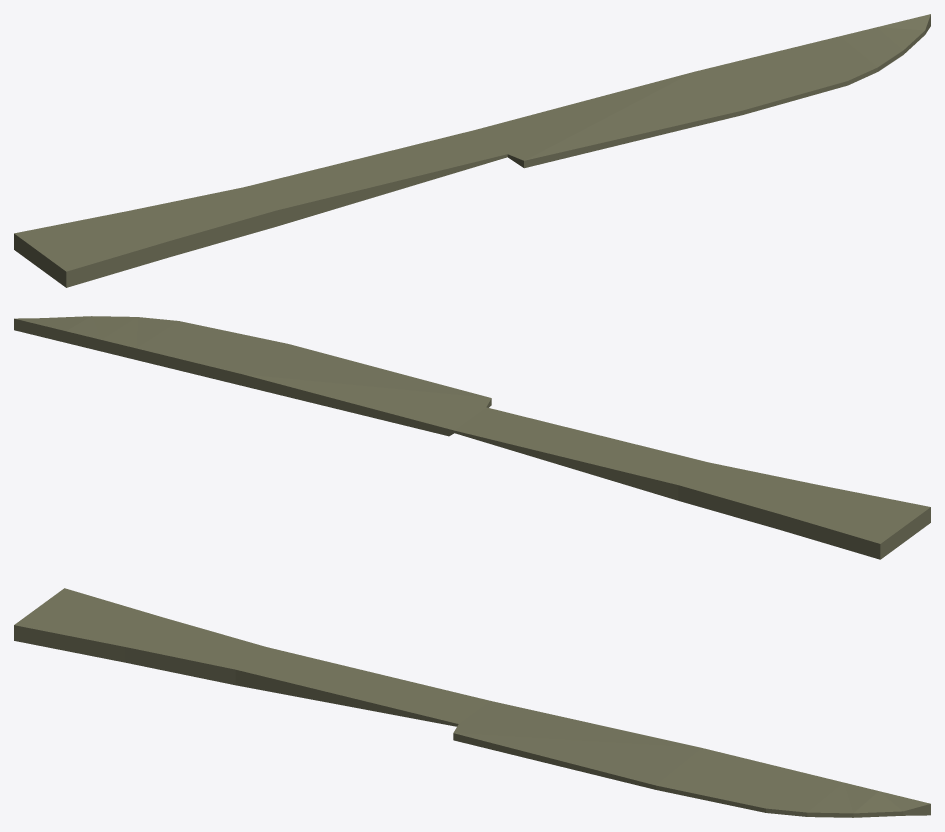
File: Knife.FBX
3 views of the same model, one above another, from view 1: azimuth 30°, elevation 25°; view 2: azimuth 150°, elevation 25°; view 3: azimuth 330°, elevation 25° (orthographic). The views are drawn at different scales.
Parts seen in each view (by area): view 1: Box002; view 2: Box002; view 3: Box002.
Boxes of the visible parts, x1=… form: Box002: x1=14, y1=14, x2=930, y2=287; Box002: x1=14, y1=316, x2=930, y2=559; Box002: x1=14, y1=588, x2=930, y2=817.
Size of the model in its own units: 13.26 by 0.2998 by 1.46.
